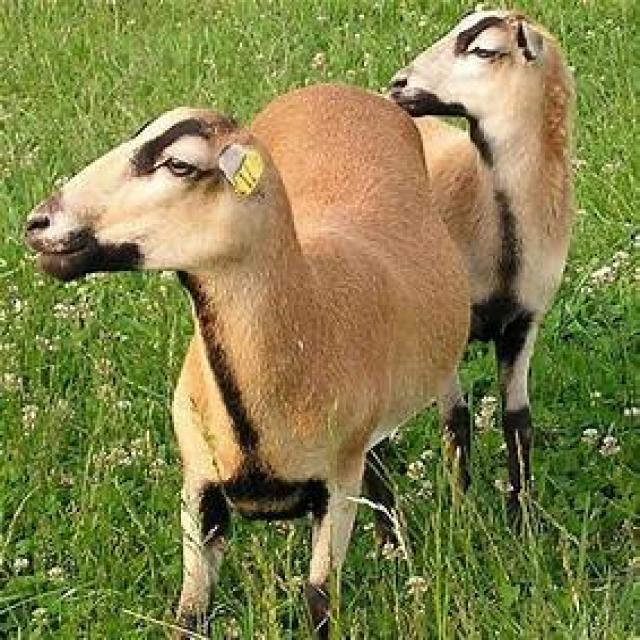animal: (11, 63, 411, 585), (348, 13, 640, 456)
